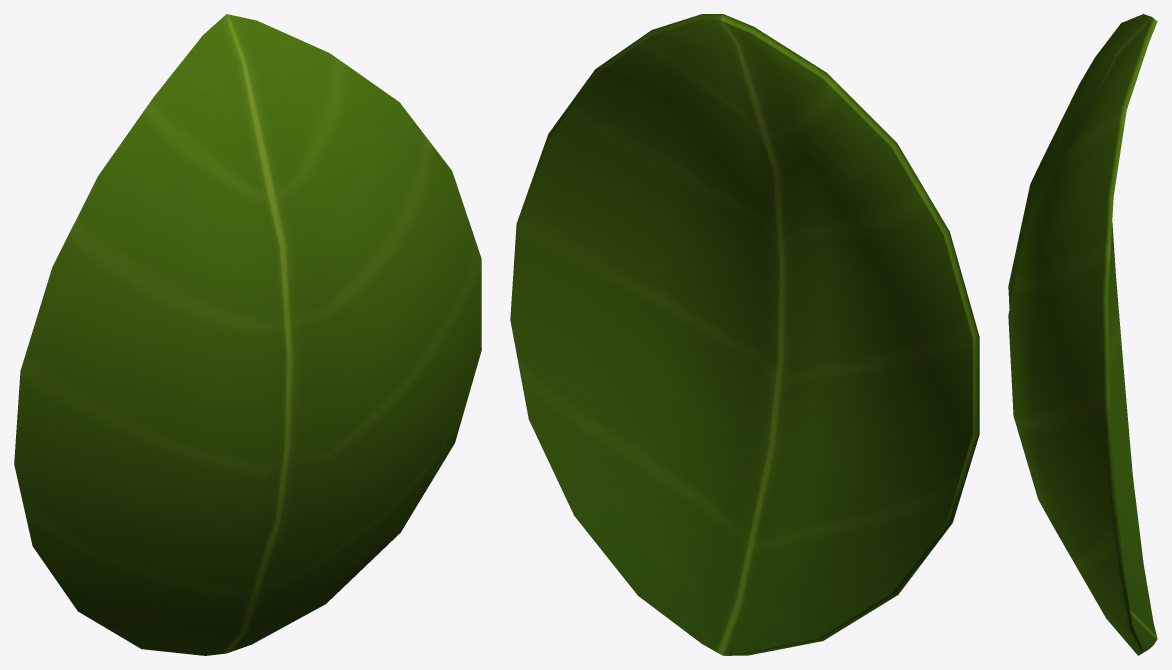
The model's file is leaf.fbx.
3 renders of one model, left to right at view 1: azimuth 30°, elevation 25°; view 2: azimuth 150°, elevation 25°; view 3: azimuth 270°, elevation 25°, orthographic. The views are drawn at different scales.
Visible parts, largest first — view 1: leaf; view 2: leaf; view 3: leaf.
Boxes of the visible parts, x1,y1,x2,y2 form: leaf: (14, 14, 481, 655); leaf: (510, 14, 979, 655); leaf: (1008, 14, 1157, 655).
Size of the model in its own units: 21.69 by 28.35 by 6.12.
Materials: 1 (1 with a texture image).
